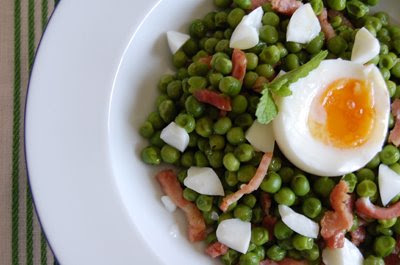boiled peas: (178, 71, 249, 160)
fried egg: (285, 64, 377, 168)
